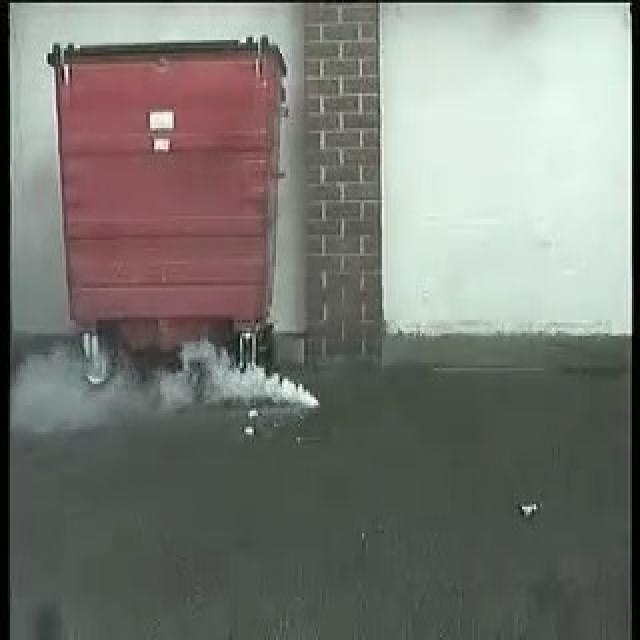smoke: (160, 345, 314, 406)
